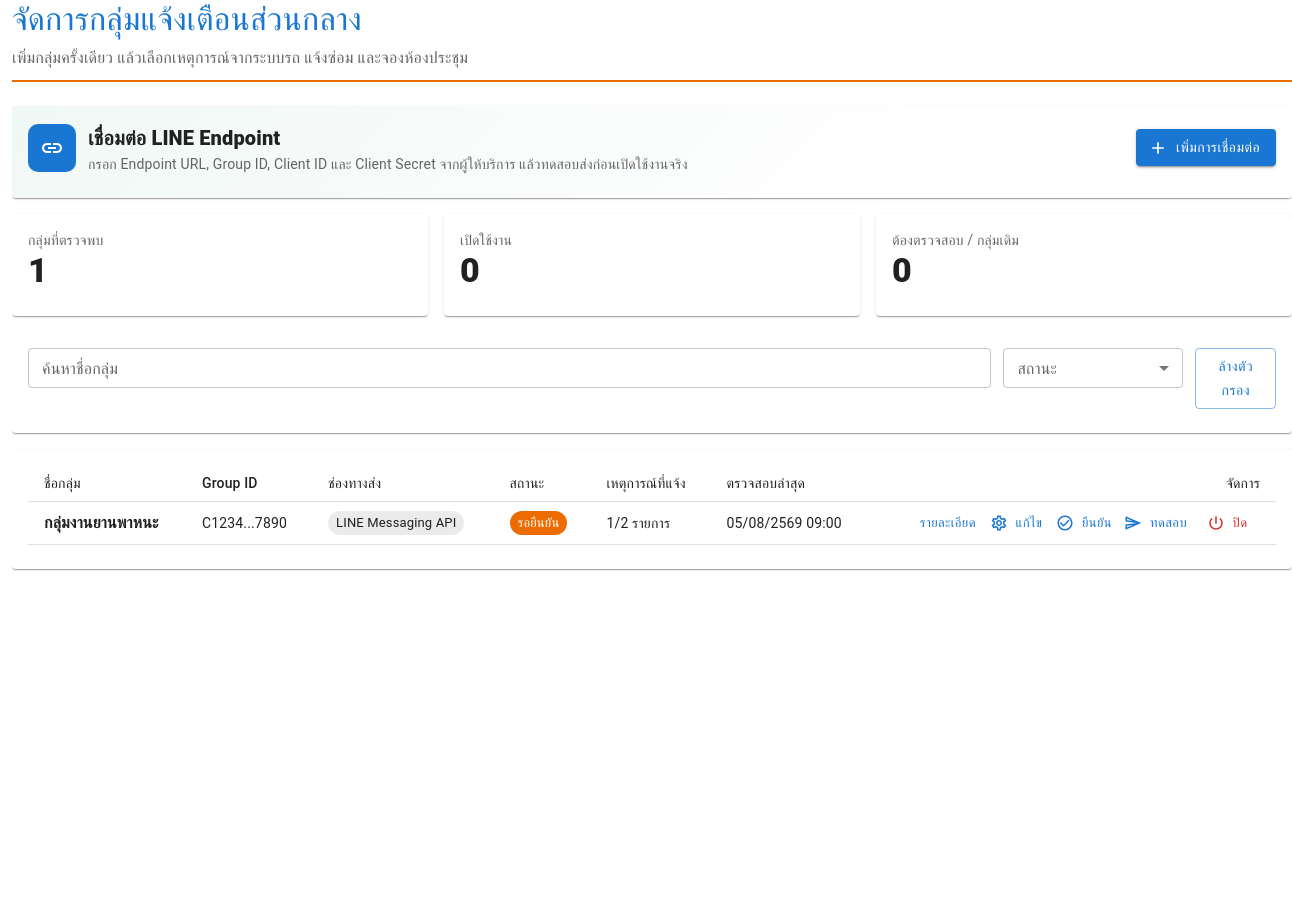
Test case: FleetLineGroupsPage › shows the source system alongside delivery history events
The width and height of the screenshot is (1292, 900).
Click the button "รายละเอียด" at (948, 523), box [915, 508, 981, 538]
(page scrolled)
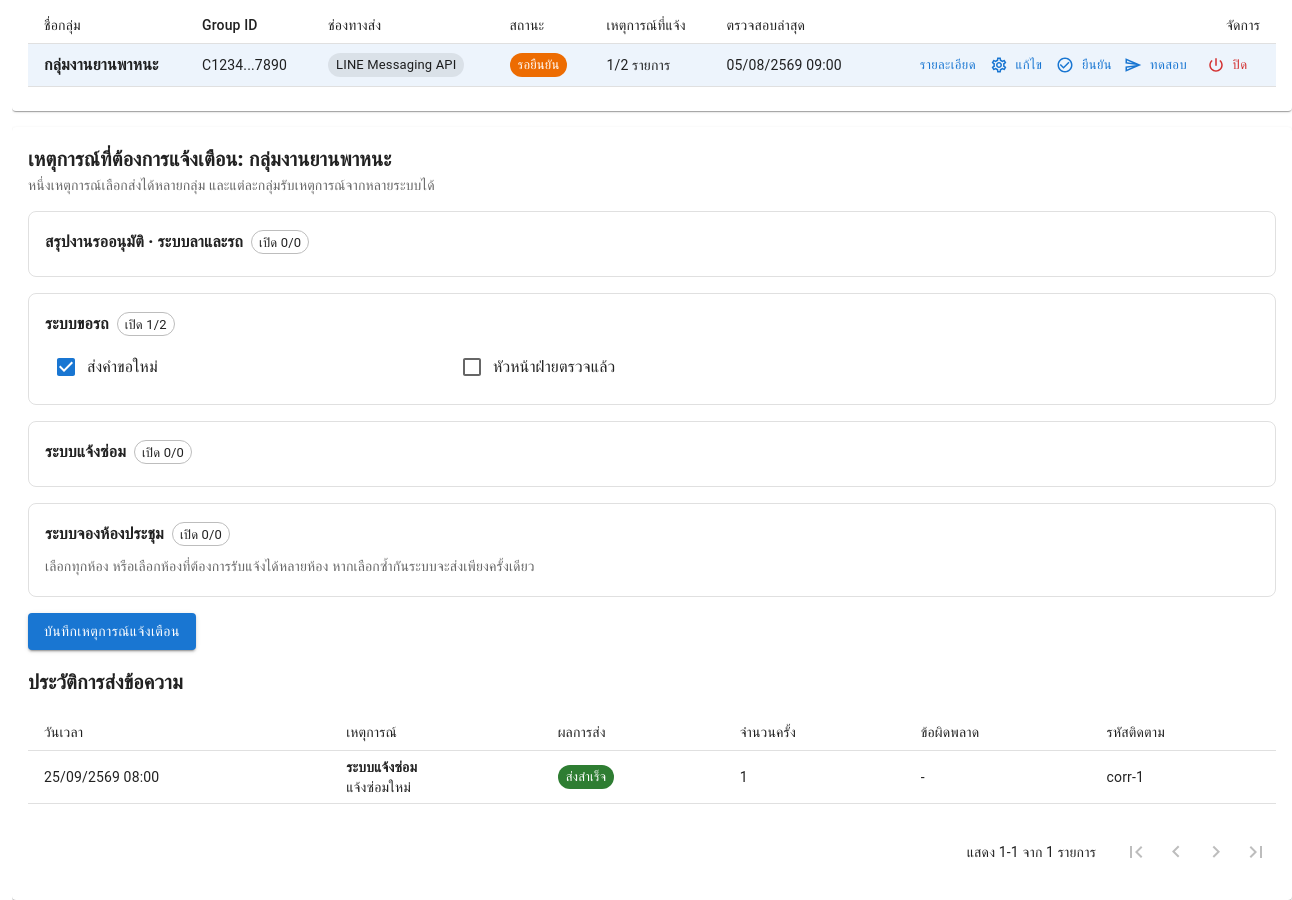
Now the text "แจ้งซ่อมใหม่" is shown, box [346, 779, 411, 795]
Now the text "ระบบแจ้งซ่อม" is shown, box [346, 759, 417, 775]
